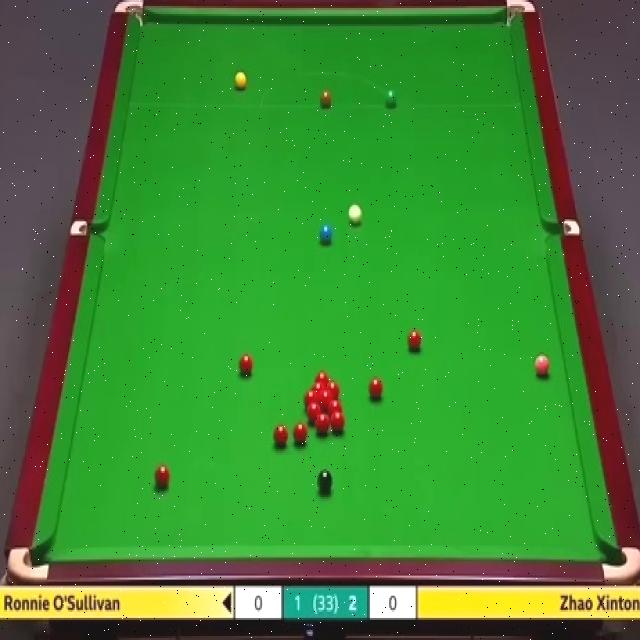black-ball: (317, 468, 333, 494)
blue-ball: (319, 223, 332, 242)
brown-ball: (319, 91, 332, 107)
green-ball: (384, 87, 398, 110)
pink-ball: (533, 353, 551, 378)
red-ball: (153, 466, 170, 492), (368, 376, 383, 402), (274, 421, 288, 448), (292, 423, 306, 448), (316, 413, 332, 434), (240, 353, 253, 378), (320, 389, 334, 412), (408, 329, 421, 352), (303, 390, 319, 408), (307, 401, 320, 423), (331, 412, 344, 432), (325, 381, 339, 399), (328, 401, 343, 416), (315, 369, 330, 382), (310, 381, 326, 393)
white-ball: (347, 202, 364, 227)
yellow-ball: (234, 71, 249, 91)
